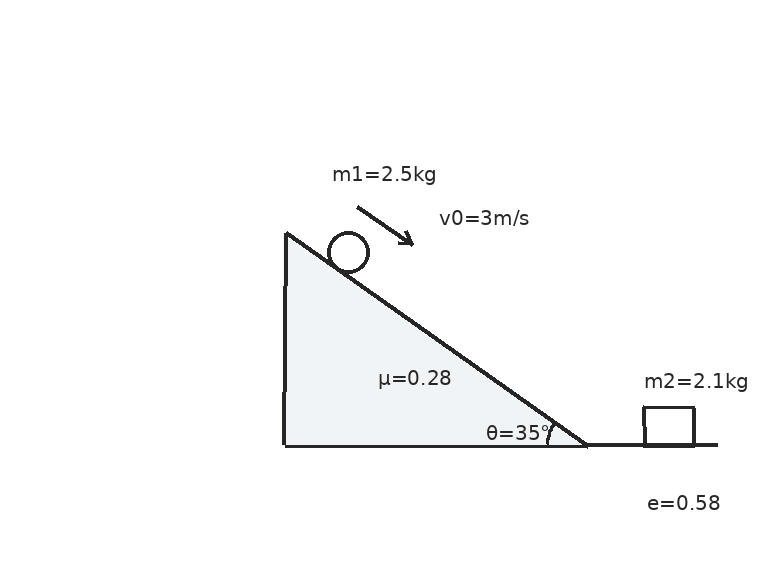ball: (325, 229, 371, 275)
block: (641, 406, 697, 447)
ramp: (282, 231, 589, 447)
